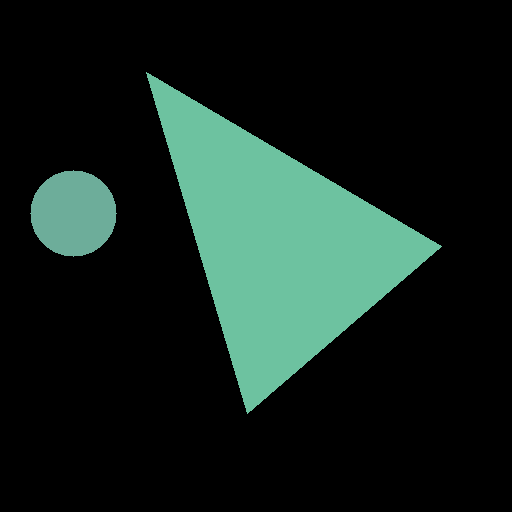circle: (30, 170, 116, 256)
triangle: (146, 72, 441, 413)
